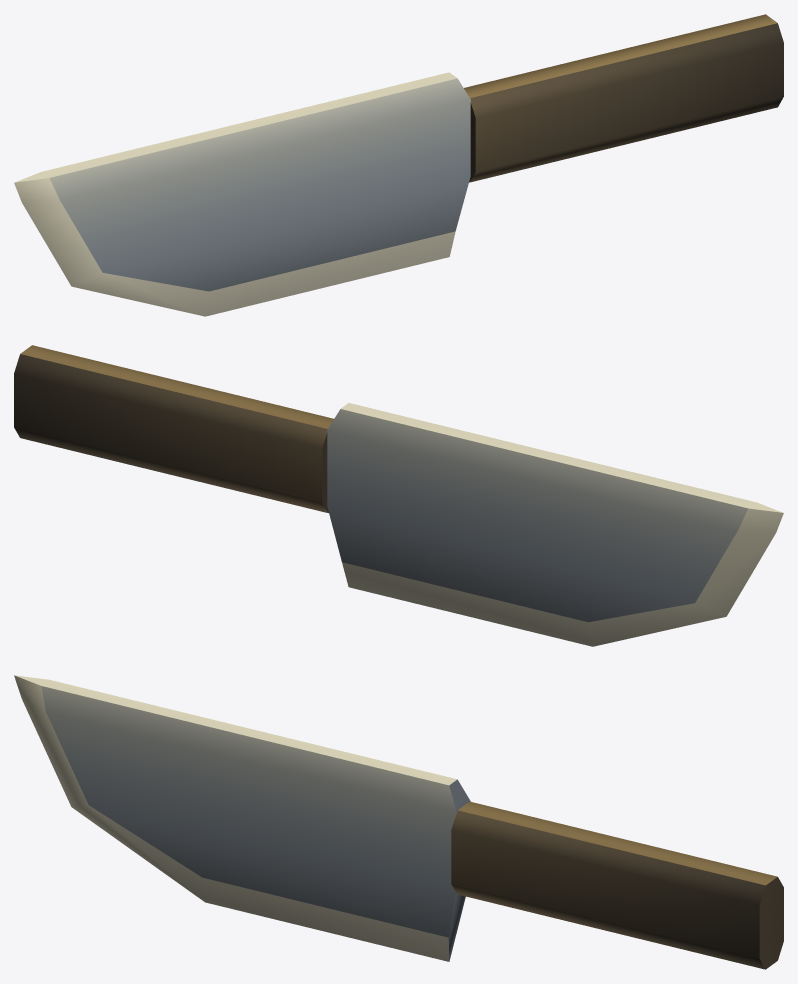
The model's file is knife.fbx.
The picture shows the model from 3 angles, top to bottom: view 1: azimuth 30°, elevation 25°; view 2: azimuth 150°, elevation 25°; view 3: azimuth 330°, elevation 25°; orthographic projection.
Parts seen in each view (by area): view 1: knife; view 2: knife; view 3: knife.
Boxes of the visible parts, left/top/right/bottom form: knife: left=14, top=14, right=783, bottom=316; knife: left=14, top=345, right=783, bottom=646; knife: left=14, top=675, right=783, bottom=969.
Size of the model in its own units: 40.5 by 9.22 by 2.27.
